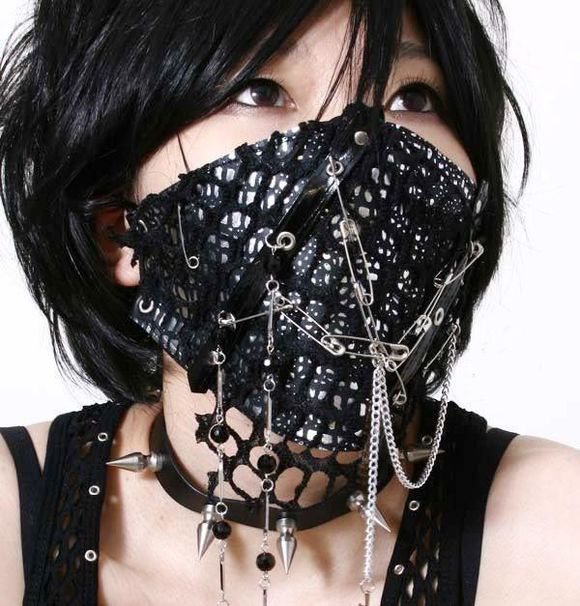face_mask: (163, 1, 475, 389)
